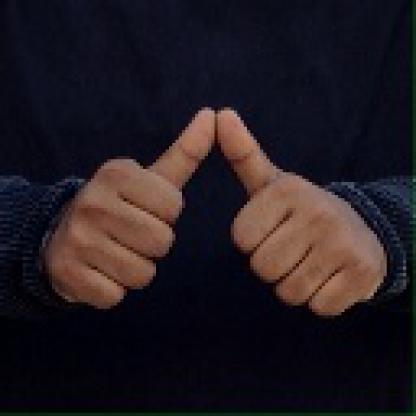A: (48, 97, 382, 317)
